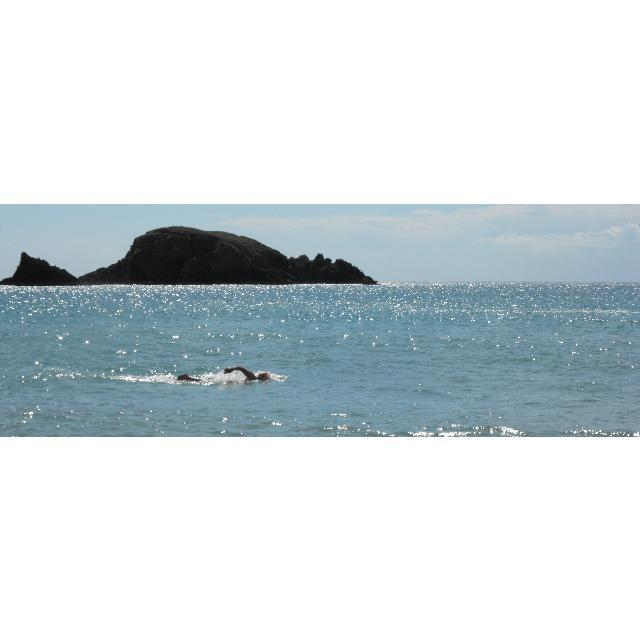human: (176, 366, 270, 384)
